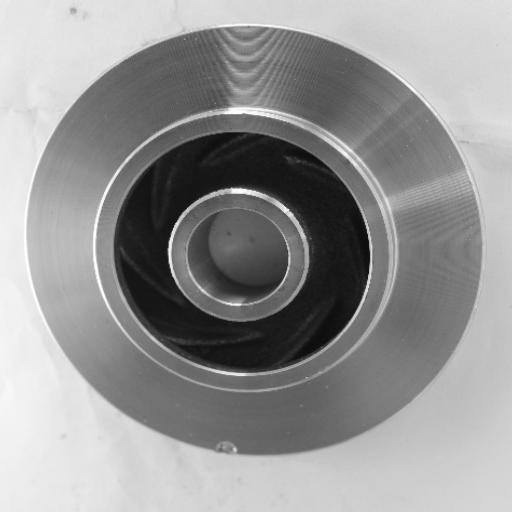crack: (210, 435, 244, 464)
unpolished_casting: (24, 24, 482, 456)
